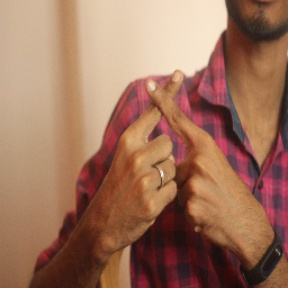X: (110, 63, 221, 167)
